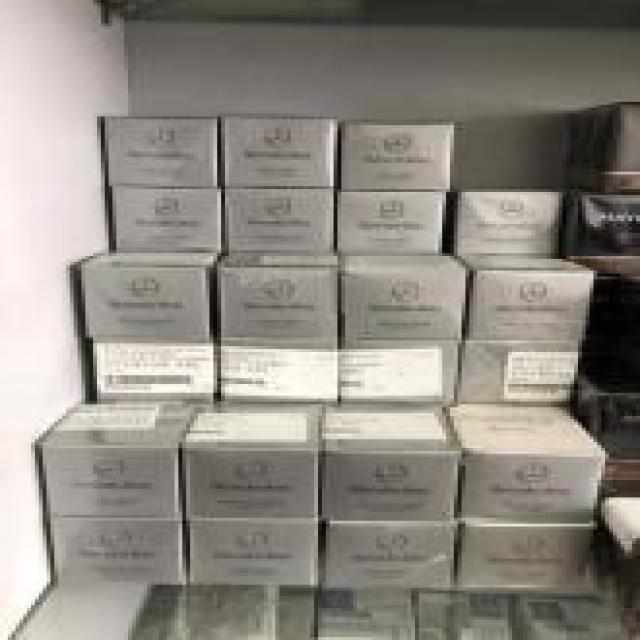box: (439, 407, 613, 529), (36, 397, 195, 523), (318, 399, 460, 521), (189, 397, 326, 520), (71, 254, 225, 350), (452, 251, 597, 350), (339, 248, 467, 355), (450, 509, 598, 596), (224, 250, 350, 349), (315, 513, 456, 595), (178, 515, 329, 589), (32, 514, 184, 585), (217, 108, 335, 196), (101, 113, 227, 195), (450, 333, 585, 404), (91, 336, 228, 405), (104, 180, 228, 256), (337, 120, 457, 195), (218, 181, 338, 256), (222, 339, 338, 412), (338, 339, 458, 409), (449, 187, 563, 258), (337, 189, 450, 254)
